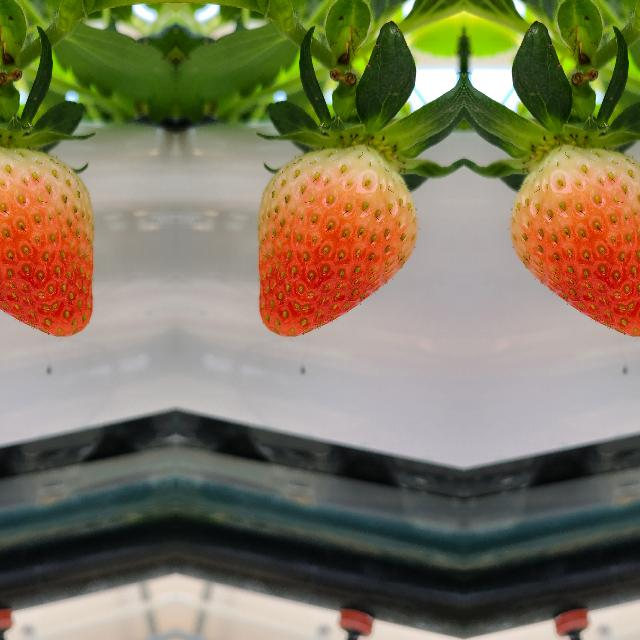Health_75: (256, 144, 418, 338), (508, 143, 640, 338), (0, 143, 94, 338)
